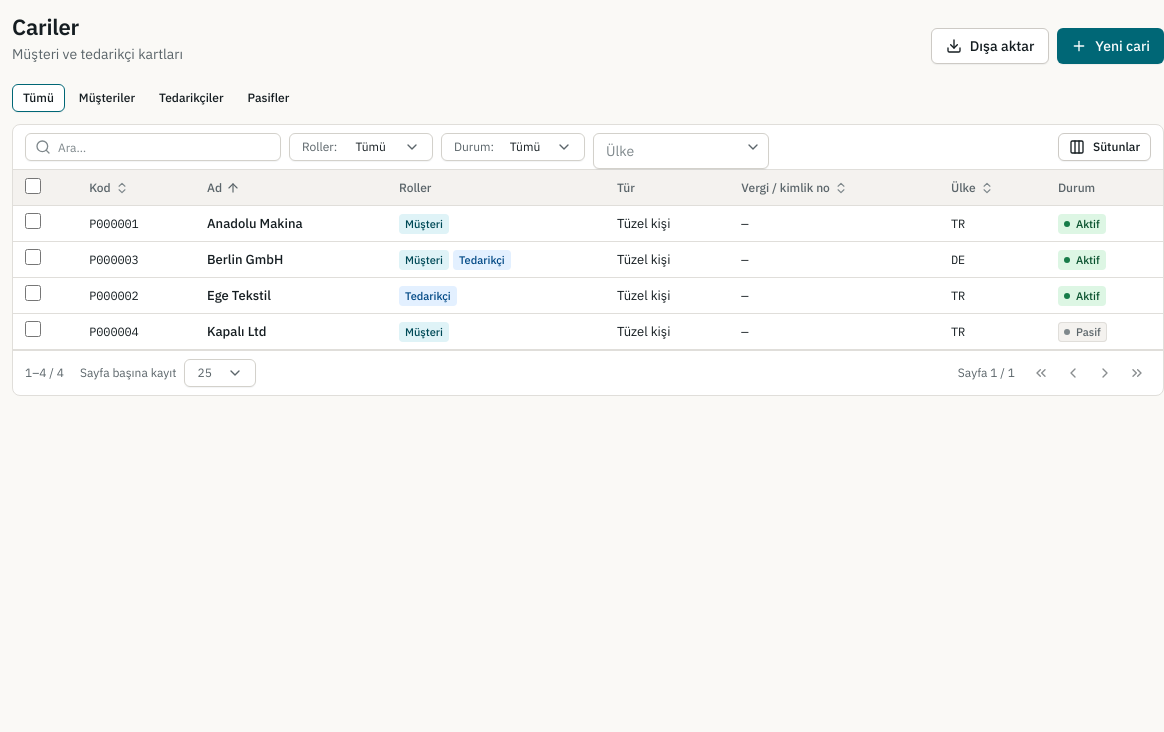
PartyListPage › deactivates selected parties in bulk, each with its own version
Check: the table named "Cari listesi" is shown, box [13,170,1163,350]
Check: the link "Anadolu Makina" is shown, box [207,214,303,232]
Click the checkbox named "Satırı seç" next to "P000001" at (33, 221), box [25,213,41,229]
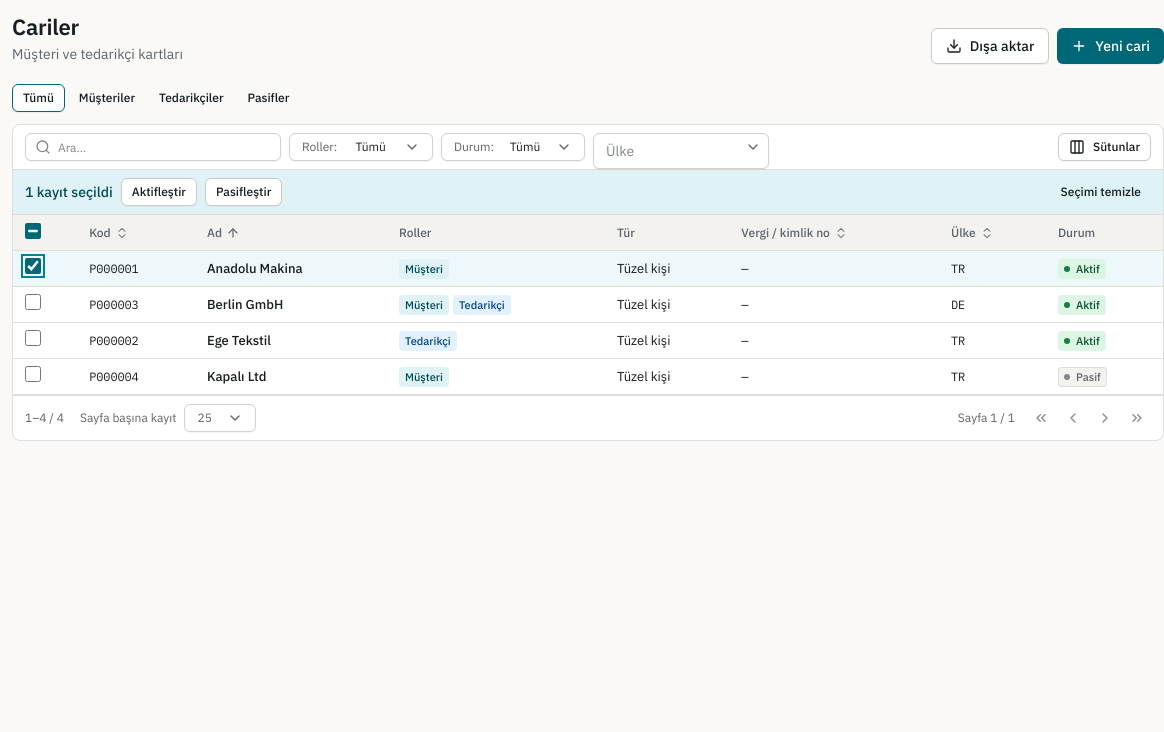
Click the checkbox named "Satırı seç" next to "P000002" at (33, 338), box [25,330,41,346]
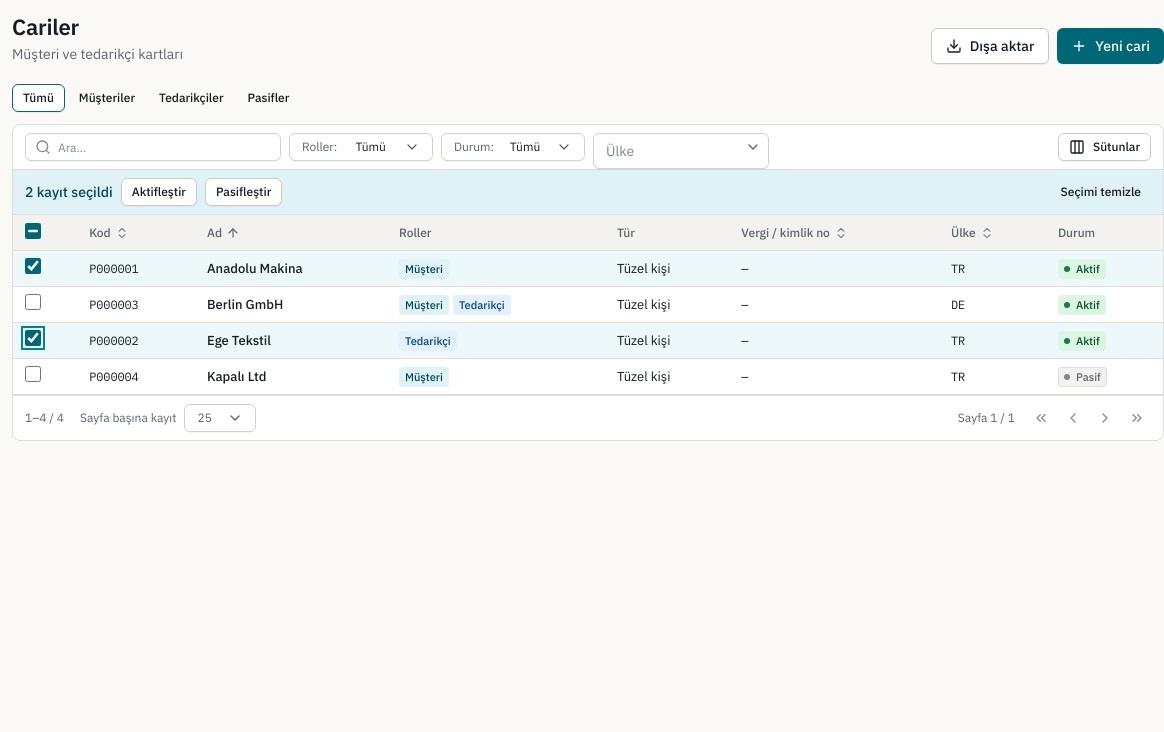
Click the button "Pasifleştir" at (244, 192), box [205,178,282,206]
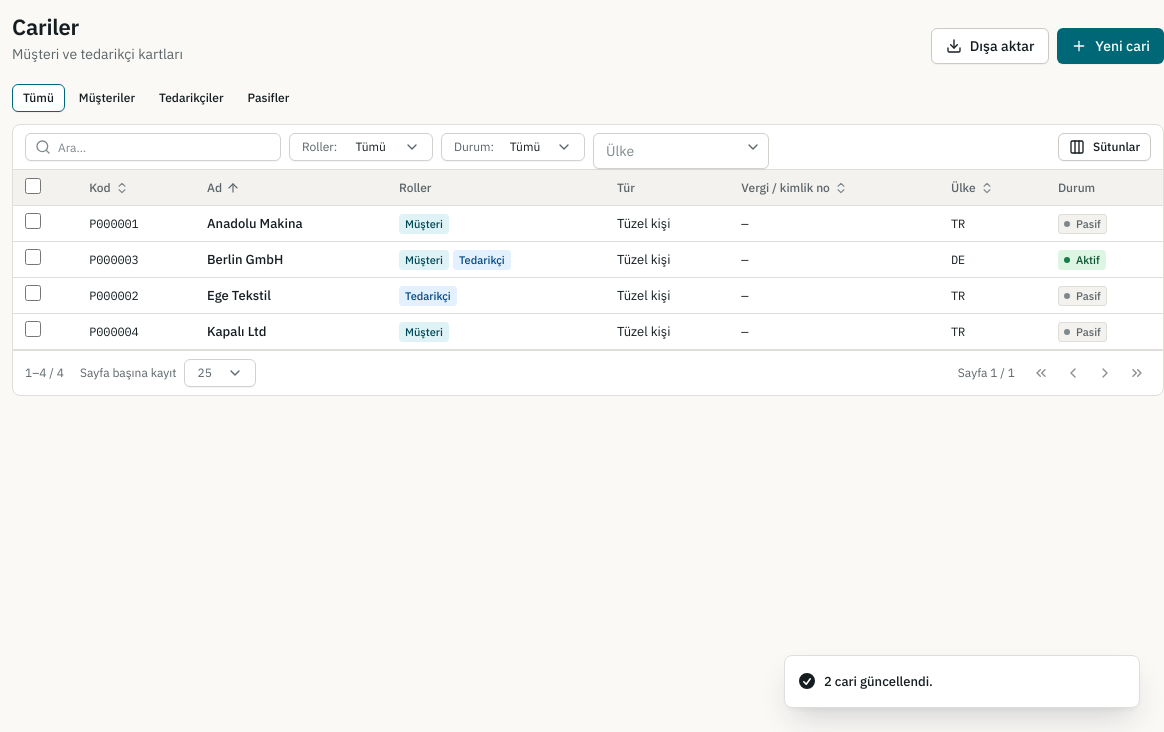
Check: the text "2 cari güncellendi." is shown, box [824,672,933,691]
